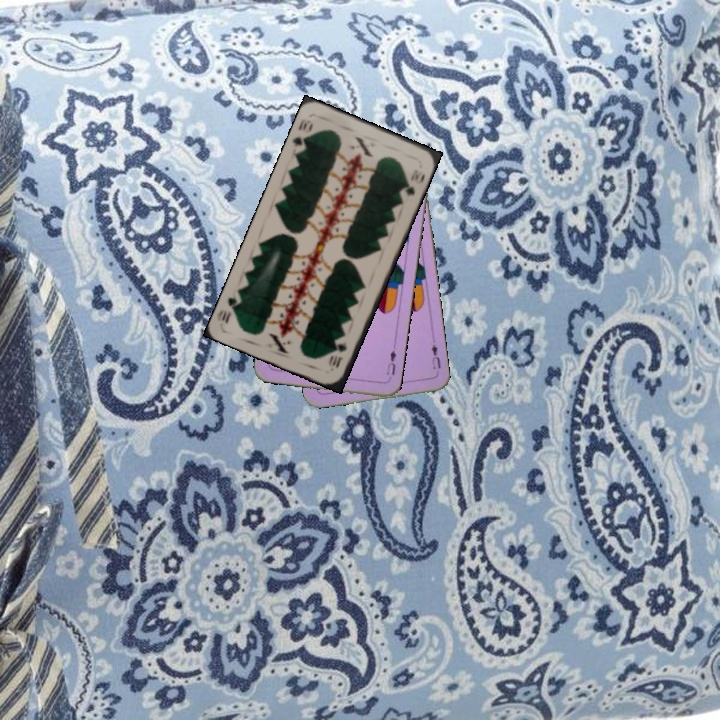EU: (427, 340, 443, 377), (382, 346, 399, 378)
G10: (289, 114, 316, 154), (326, 338, 349, 371)
